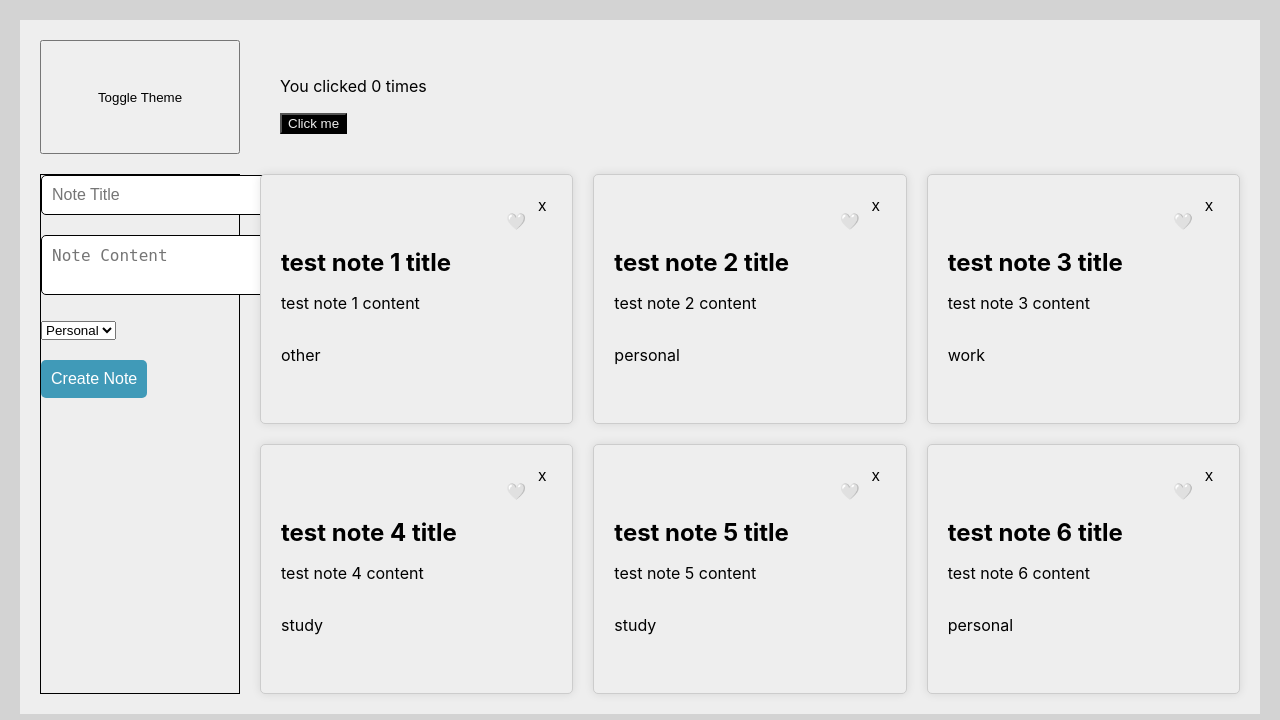
Test: edgecase: delete all notes
Click the 1st button "x" at (542,206), box [532,196,552,216]
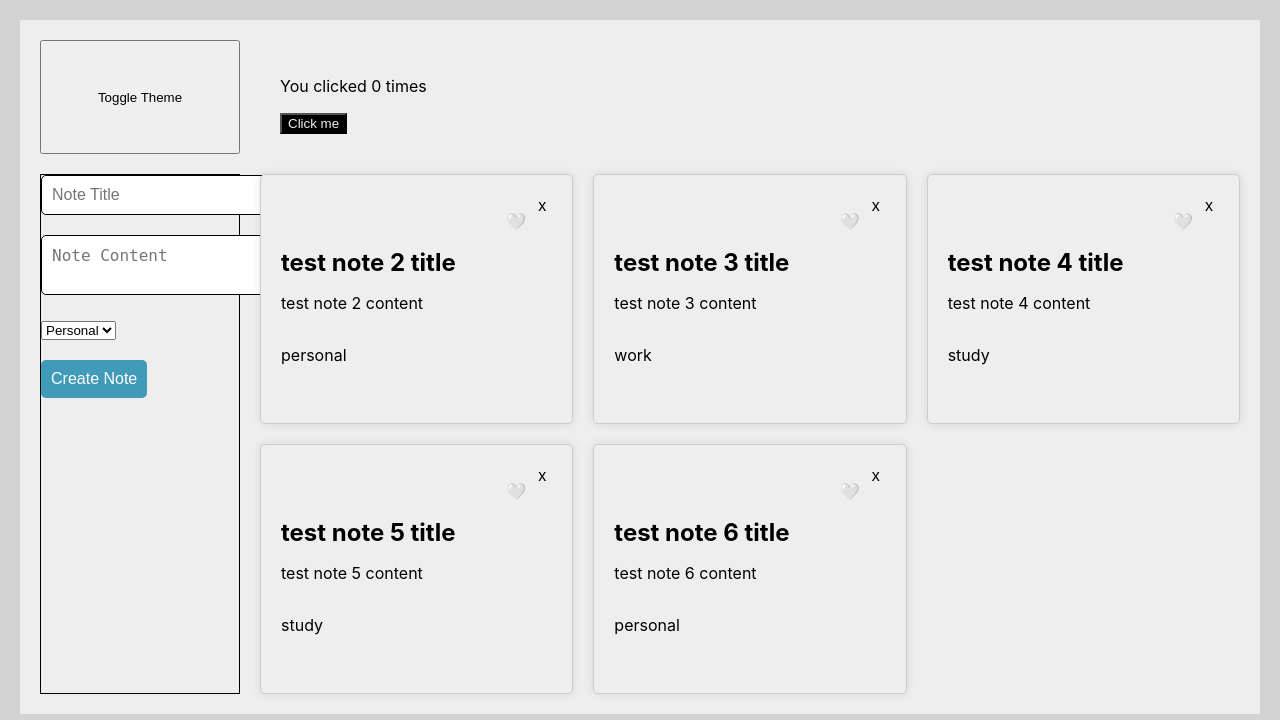
Click the 1st button "x" at (542,206), box [532,196,552,216]
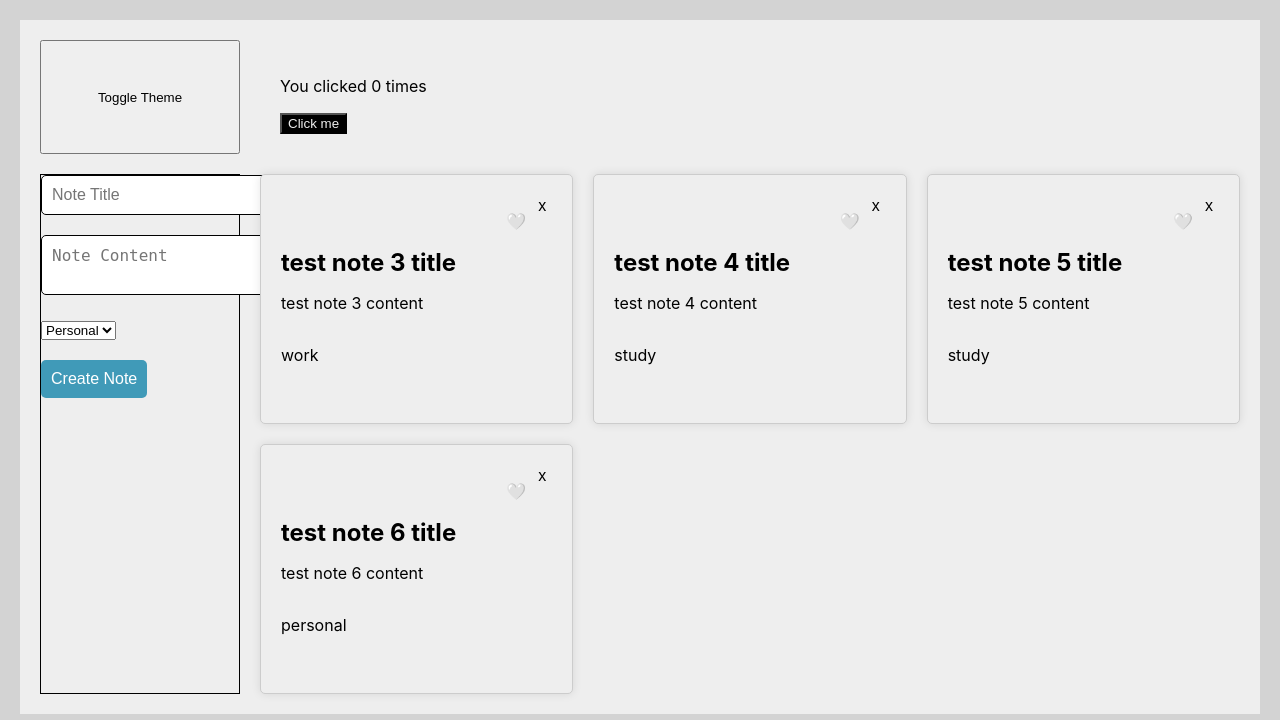
Click the 1st button "x" at (542,206), box [532,196,552,216]
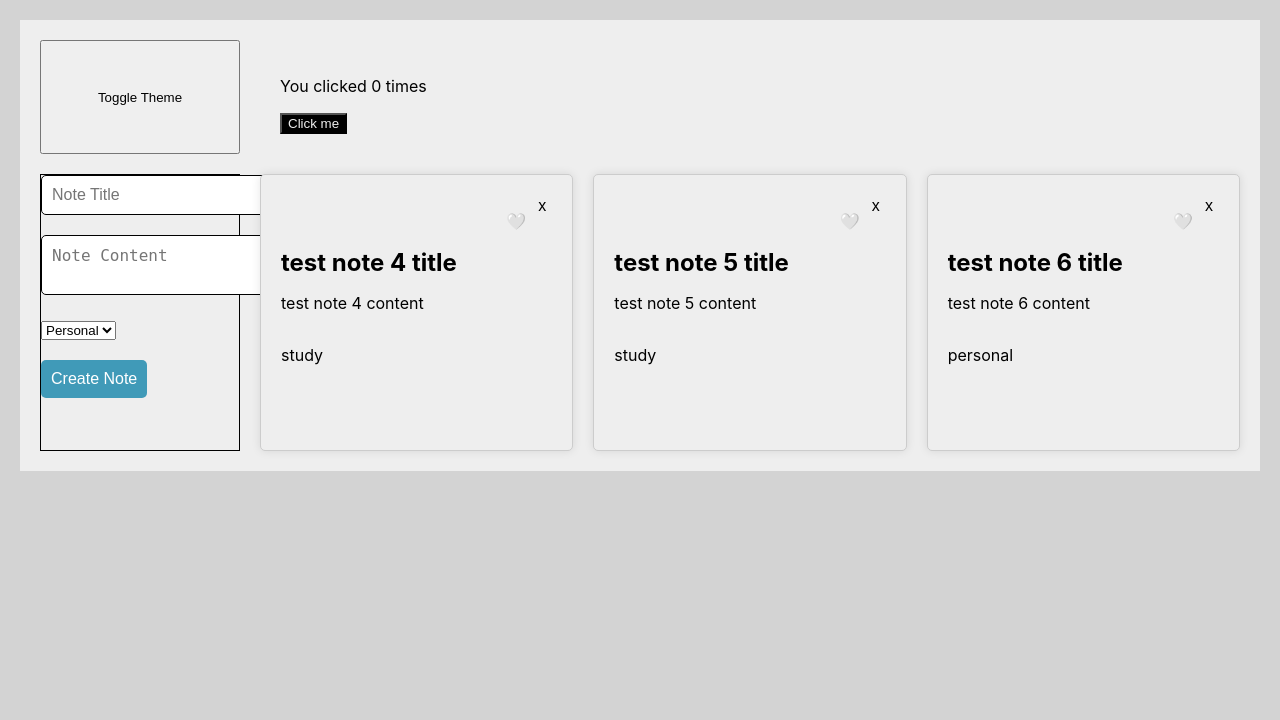
Click the 1st button "x" at (542,206), box [532,196,552,216]
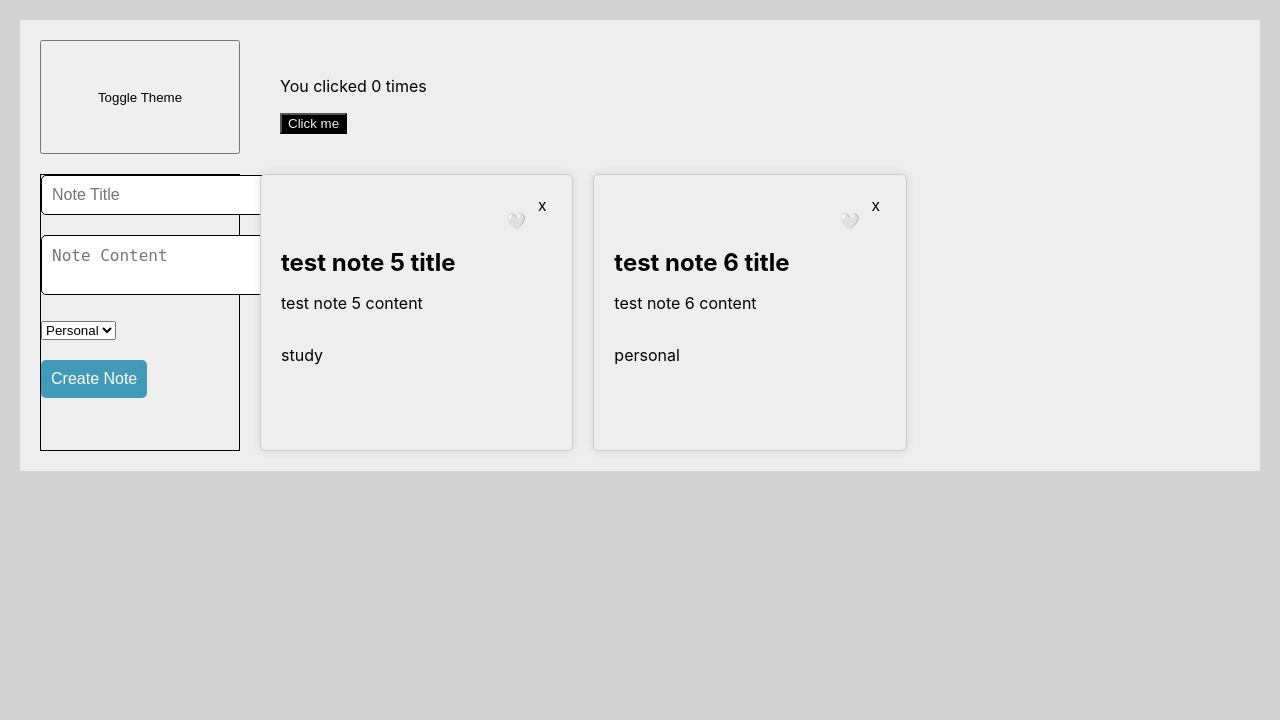
Click the 1st button "x" at (542,206), box [532,196,552,216]
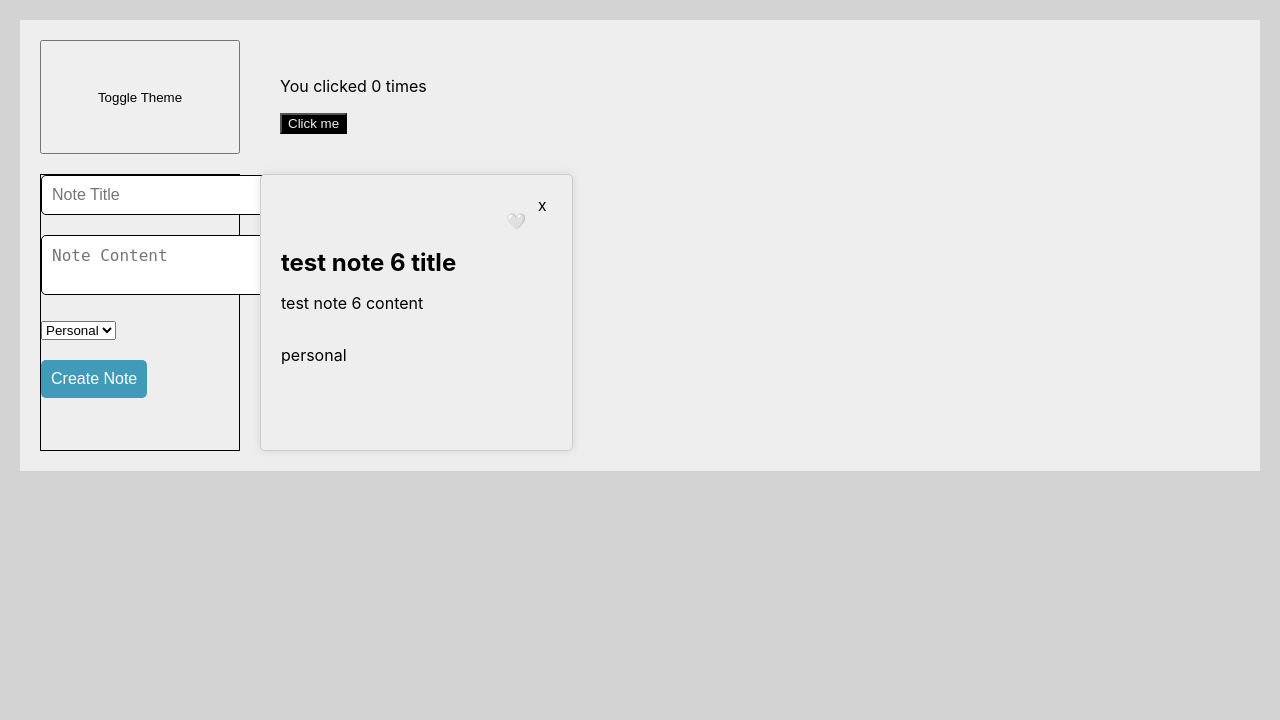
Click the button "x" at (542,206), box [532,196,552,216]
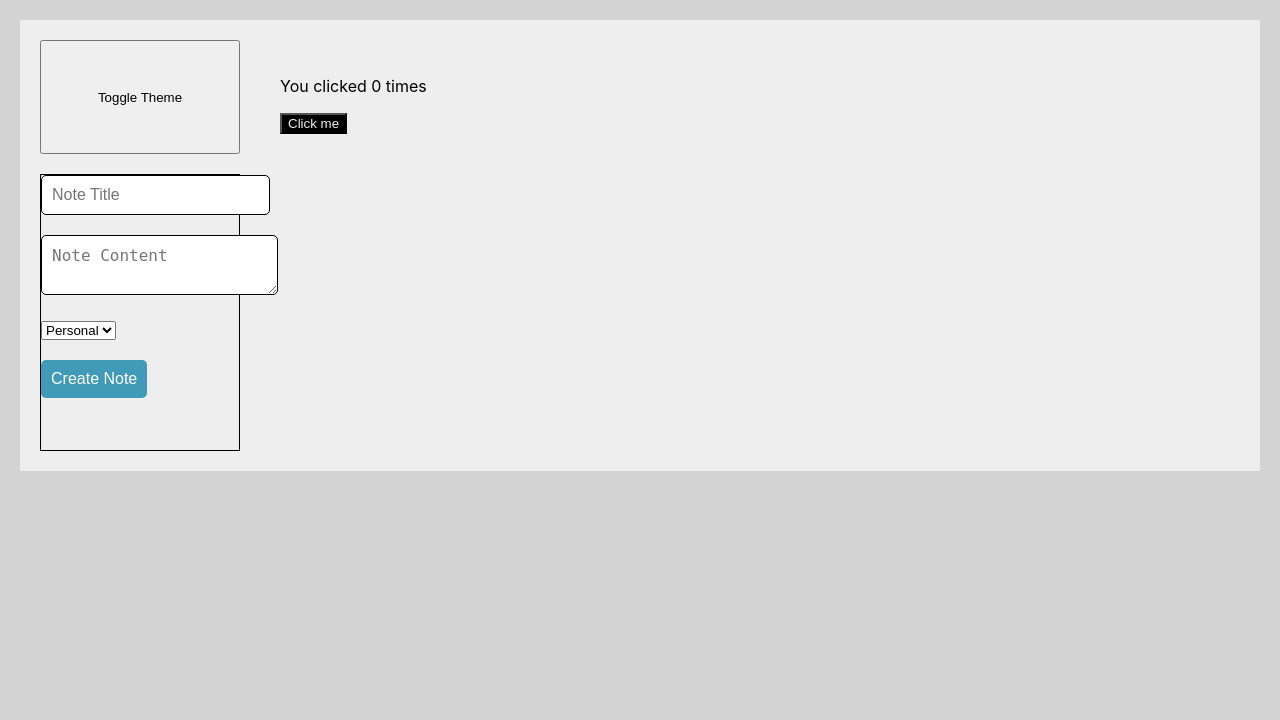
Expected: the button "x" is gone
